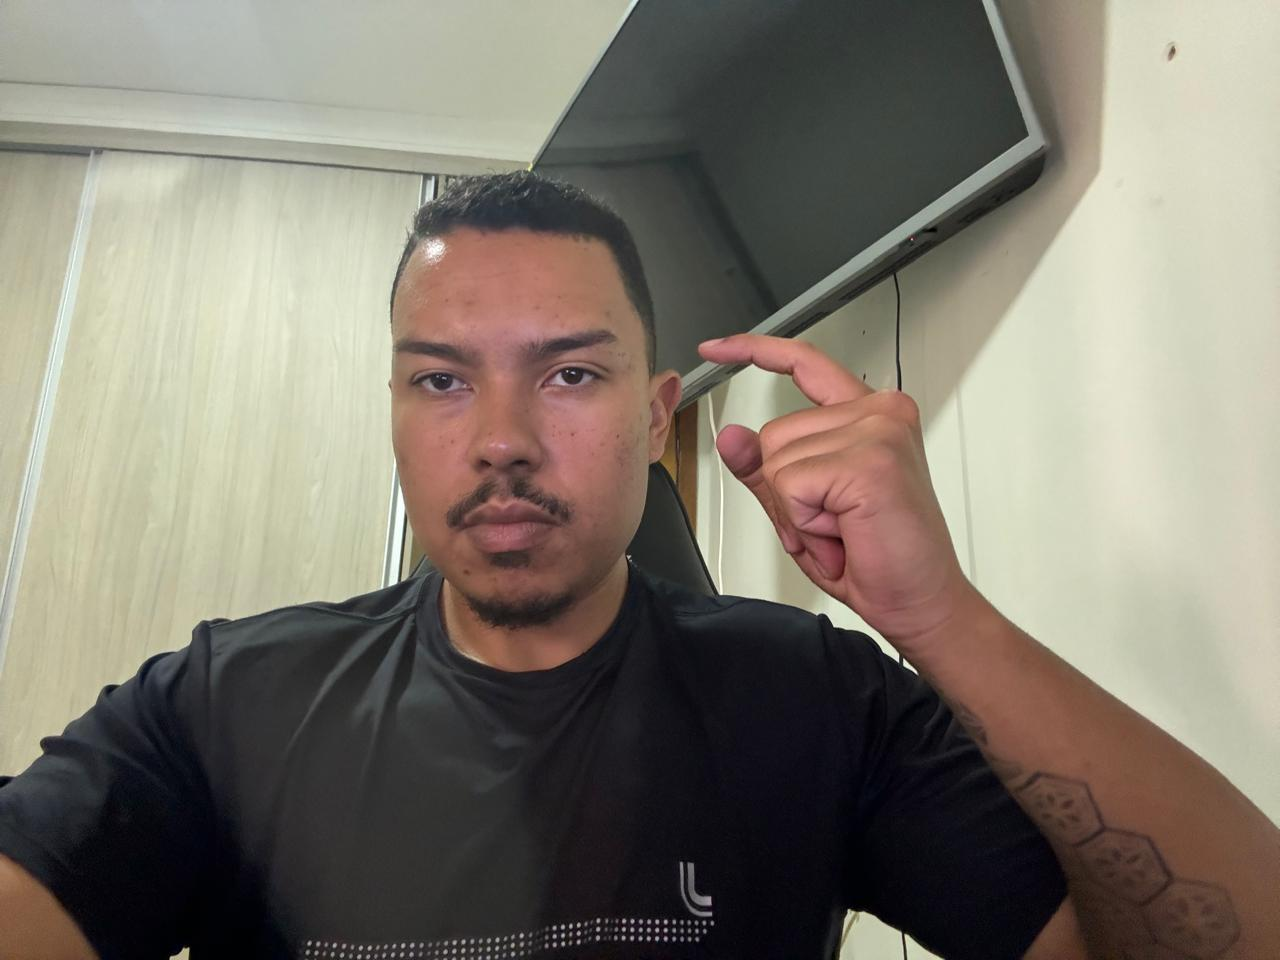x: (674, 320, 969, 667)
